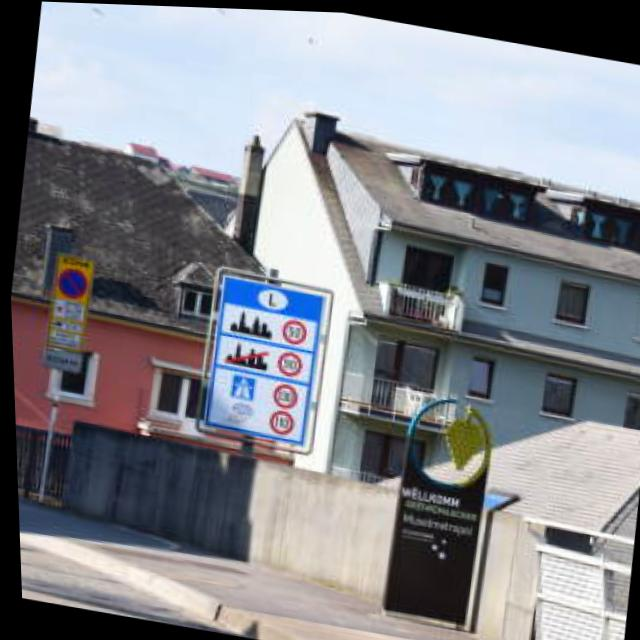Speed Limit -90-: (272, 347, 304, 377)
